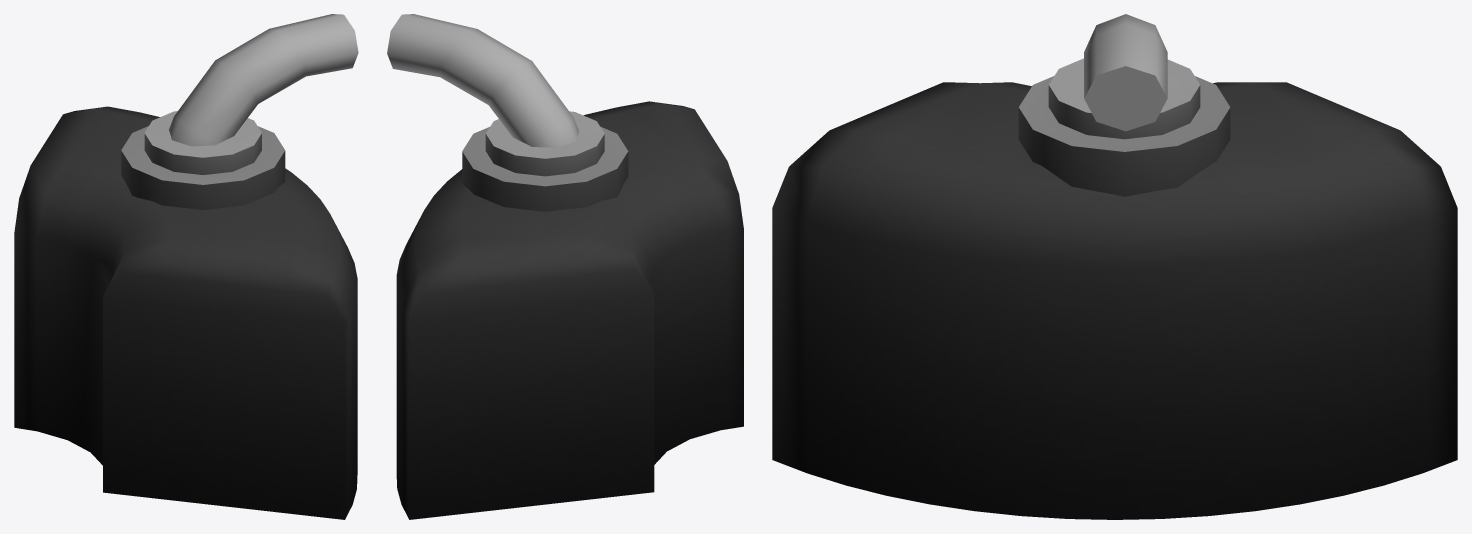
The model's file is model_BurbleHalfMoonBomb.fbx.
3 views of the same model, side by side, from view 1: azimuth 30°, elevation 25°; view 2: azimuth 150°, elevation 25°; view 3: azimuth 270°, elevation 25° (orthographic). The views are drawn at different scales.
Visible parts, largest first — view 1: model_BurbleHalfMoonBomb; view 2: model_BurbleHalfMoonBomb; view 3: model_BurbleHalfMoonBomb.
Part boxes in pixels (left/top/right/bottom): model_BurbleHalfMoonBomb: left=14, top=14, right=358, bottom=519; model_BurbleHalfMoonBomb: left=387, top=14, right=743, bottom=519; model_BurbleHalfMoonBomb: left=772, top=14, right=1457, bottom=519.
Bounding box in the file's own units: 40.19 × 49.33 × 63.88.
